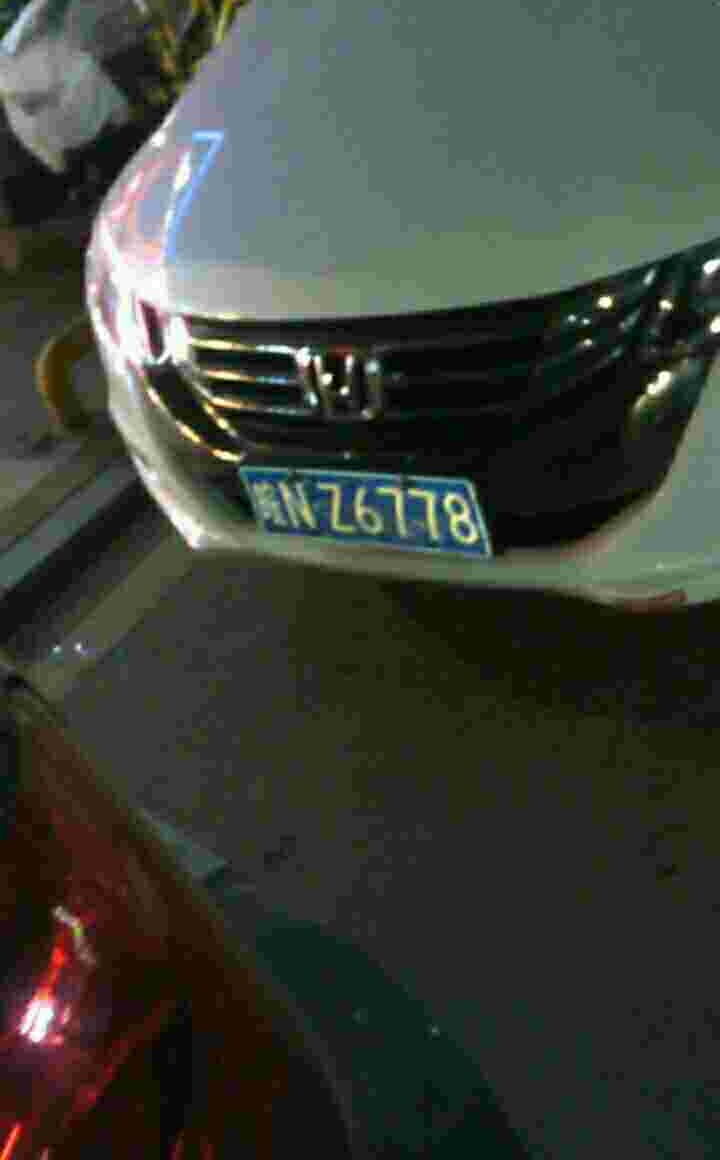license_plate: (240, 466, 476, 549)
